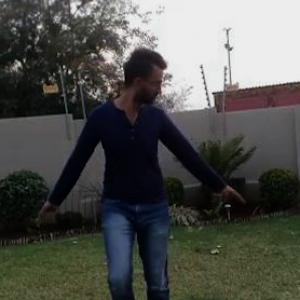land: (11, 63, 244, 299)
